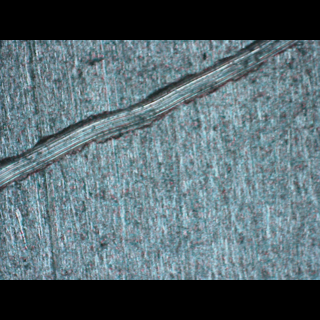d: (0, 40, 303, 197)
